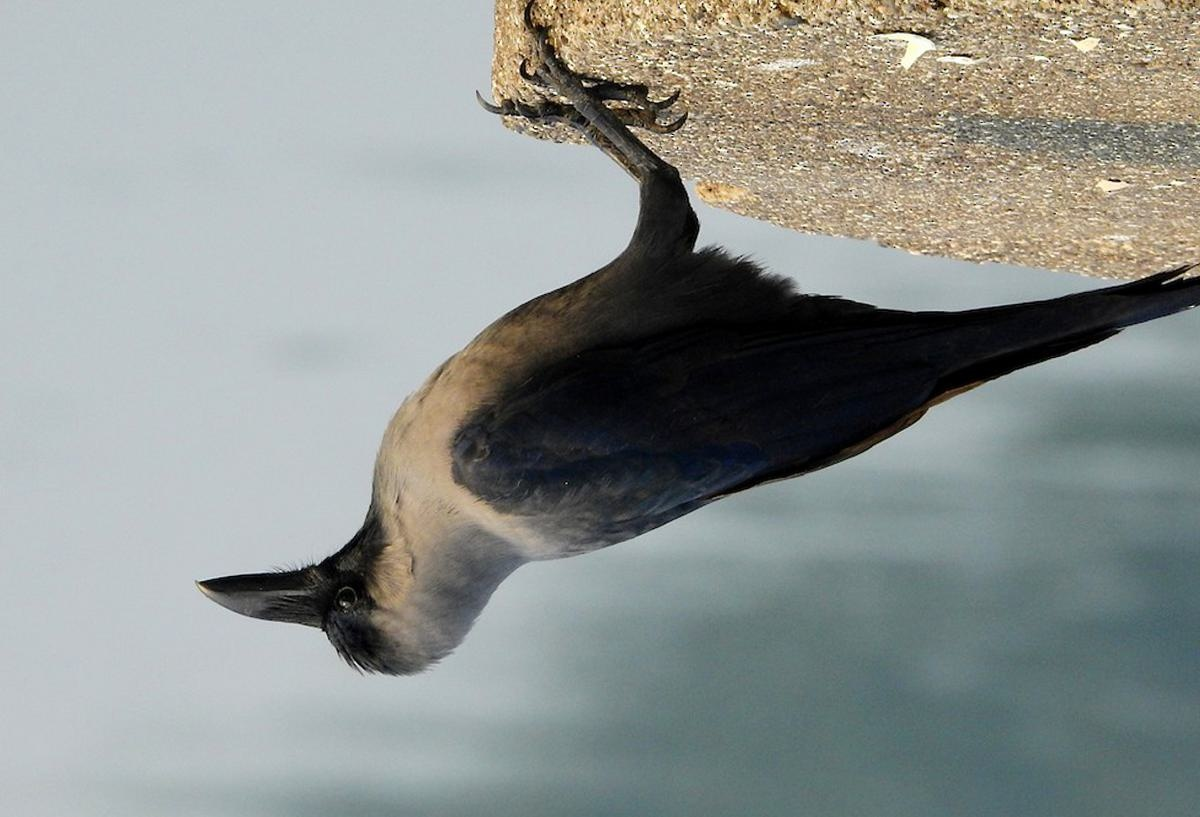crow: (181, 58, 1200, 680)
